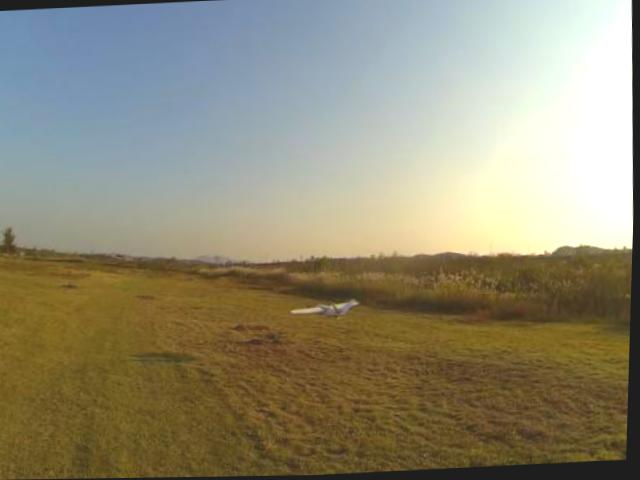uav: (285, 285, 369, 339)
